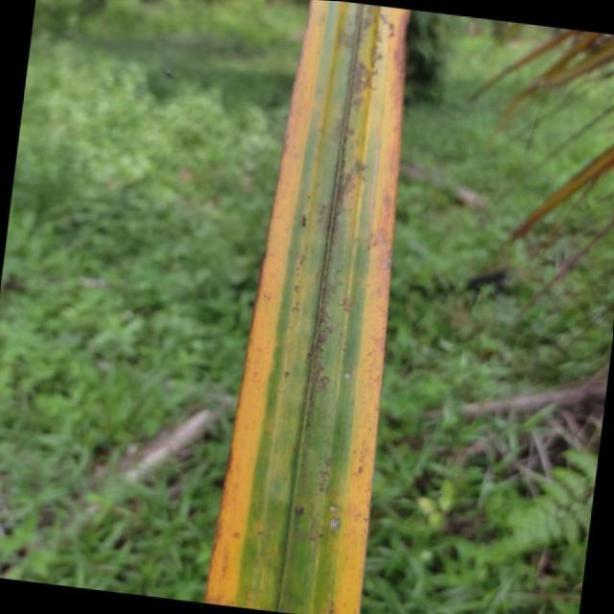Megnesium: (198, 0, 411, 614)
